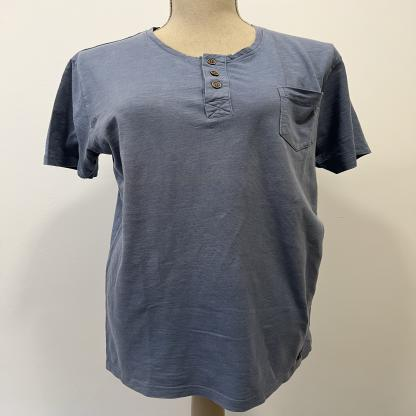stain: (86, 115, 100, 131)
